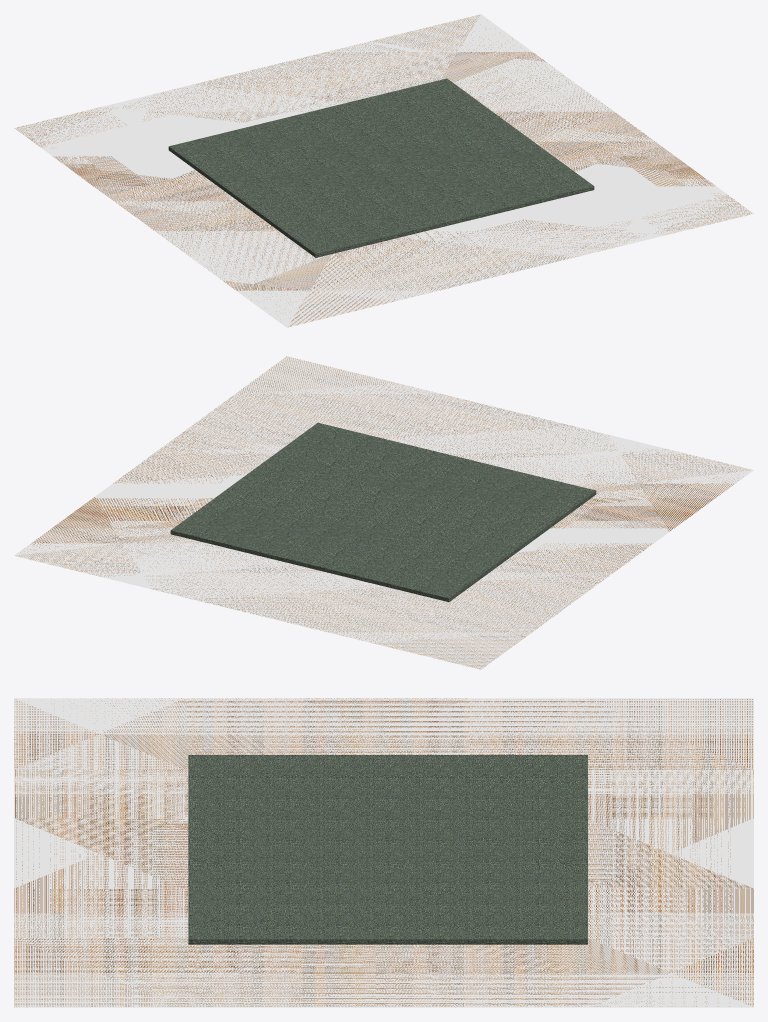
Rendered from floor3.glb.
The picture shows the model from 3 angles, top to bottom: view 1: azimuth 30°, elevation 25°; view 2: azimuth 150°, elevation 25°; view 3: azimuth 270°, elevation 25°; orthographic projection. The views are drawn at different scales.
Parts seen in each view (by area): view 1: SketchUp, instance_0; view 2: SketchUp, instance_0; view 3: SketchUp, instance_0.
Boxes of the visible parts, x1,y1,x2,y2 form: SketchUp: (14,14,753,327); instance_0: (168,78,594,257); SketchUp: (14,356,753,669); instance_0: (170,422,596,601); SketchUp: (14,698,753,1007); instance_0: (188,755,587,944).
Size of the model in its own units: 4.47 by 0.0349 by 4.52.
4 materials, 3 textured.
